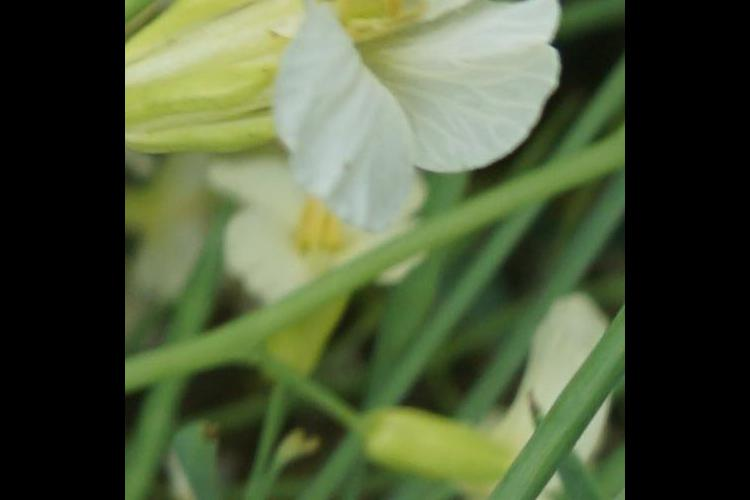white: (157, 1, 556, 235), (362, 317, 596, 500)
